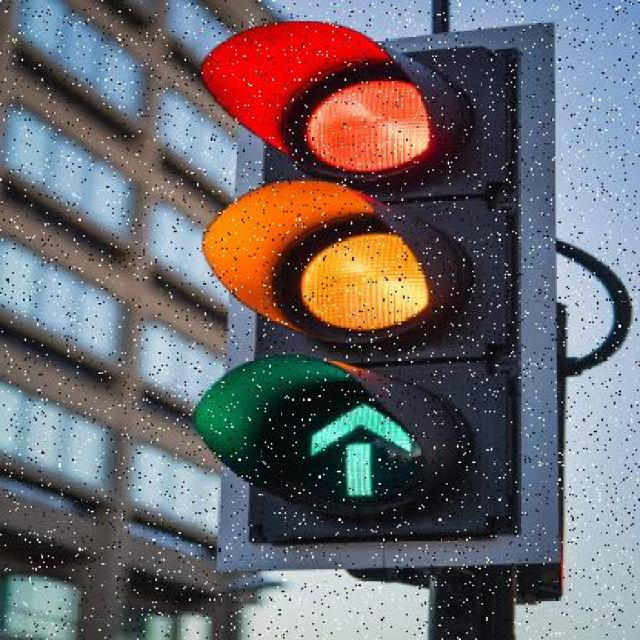traffic-light: (143, 17, 640, 609)
